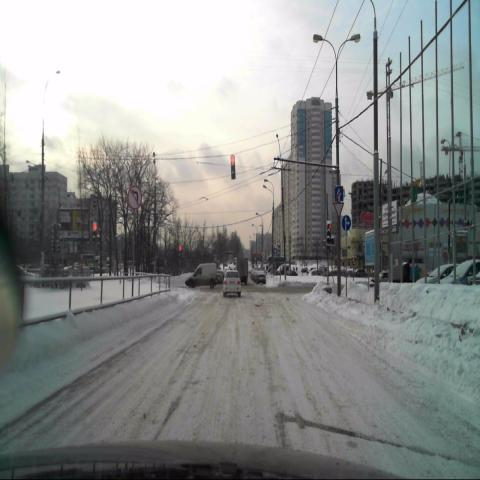3_18_2: (127, 185, 142, 209)
